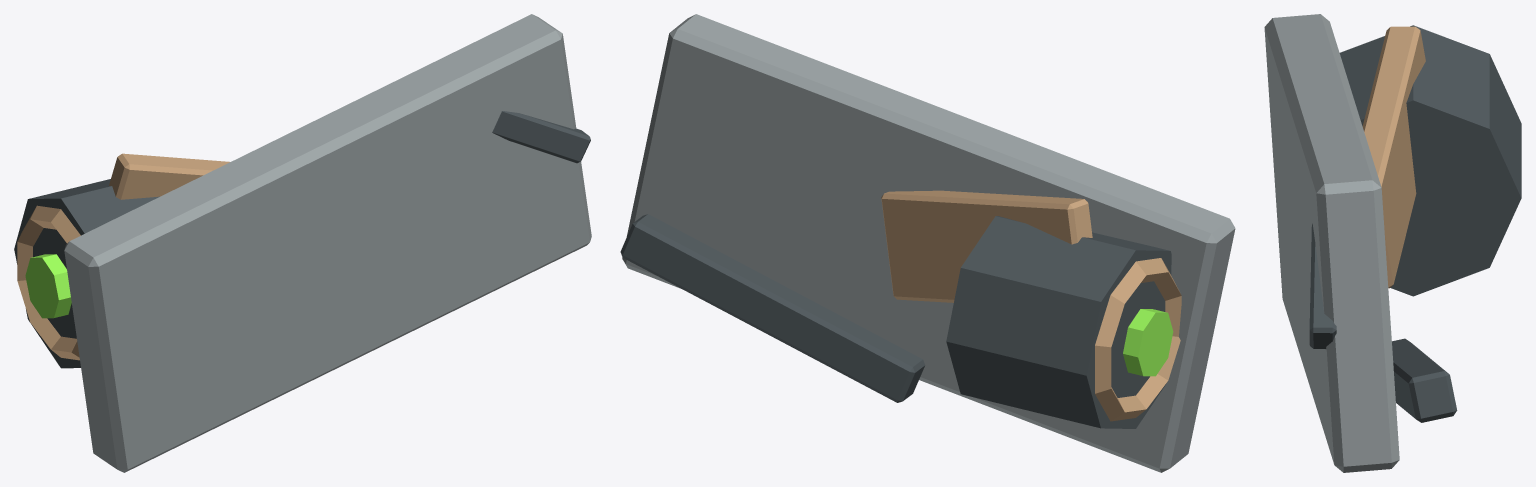
Rendered from CanyonDebris.fbx.
The picture shows the model from 3 angles, left to right: view 1: azimuth 30°, elevation 25°; view 2: azimuth 150°, elevation 25°; view 3: azimuth 270°, elevation 25°; orthographic projection. The views are drawn at different scales.
Visible parts, largest first — view 1: DebrisPlate, DebrisEngine, DebrisPlateBroken, DebrisEngineRim, DebrisStrut.002, DebrisCore; view 2: DebrisPlate, DebrisEngine, DebrisBeam, DebrisPlateBroken, DebrisEngineRim, DebrisCore; view 3: DebrisPlate, DebrisEngine, DebrisPlateBroken, DebrisBeam, DebrisStrut.002.
Part boxes in pixels (x1,y1,x2,y2): DebrisPlate: [64, 14, 591, 472]; DebrisEngine: [14, 179, 159, 368]; DebrisPlateBroken: [109, 153, 229, 199]; DebrisEngineRim: [17, 205, 80, 360]; DebrisStrut.002: [492, 111, 590, 163]; DebrisCore: [25, 254, 71, 318]; DebrisPlate: [622, 14, 1235, 472]; DebrisEngine: [946, 216, 1171, 428]; DebrisBeam: [620, 214, 925, 402]; DebrisPlateBroken: [881, 190, 1092, 302]; DebrisEngineRim: [1095, 258, 1181, 421]; DebrisCore: [1123, 309, 1173, 376]; DebrisPlate: [1264, 14, 1399, 472]; DebrisEngine: [1339, 25, 1521, 296]; DebrisPlateBroken: [1362, 26, 1425, 288]; DebrisBeam: [1392, 338, 1457, 422]; DebrisStrut.002: [1309, 223, 1336, 348].
Size of the model in its own units: 371 by 215 by 133.
